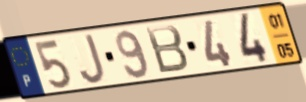4: (237, 11, 270, 66), (202, 17, 234, 69)
5: (31, 37, 75, 91)
9: (114, 28, 151, 80)
B: (143, 23, 191, 76)
J: (78, 32, 107, 86)
